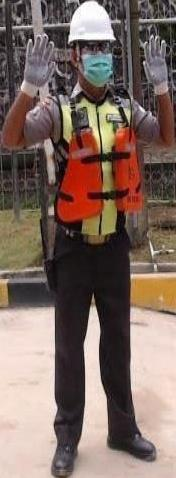boots: (106, 432, 156, 461), (51, 443, 78, 478)
gloves: (20, 33, 56, 97), (141, 34, 169, 96)
hard-hat: (66, 0, 116, 45)
vest: (22, 95, 138, 235)
